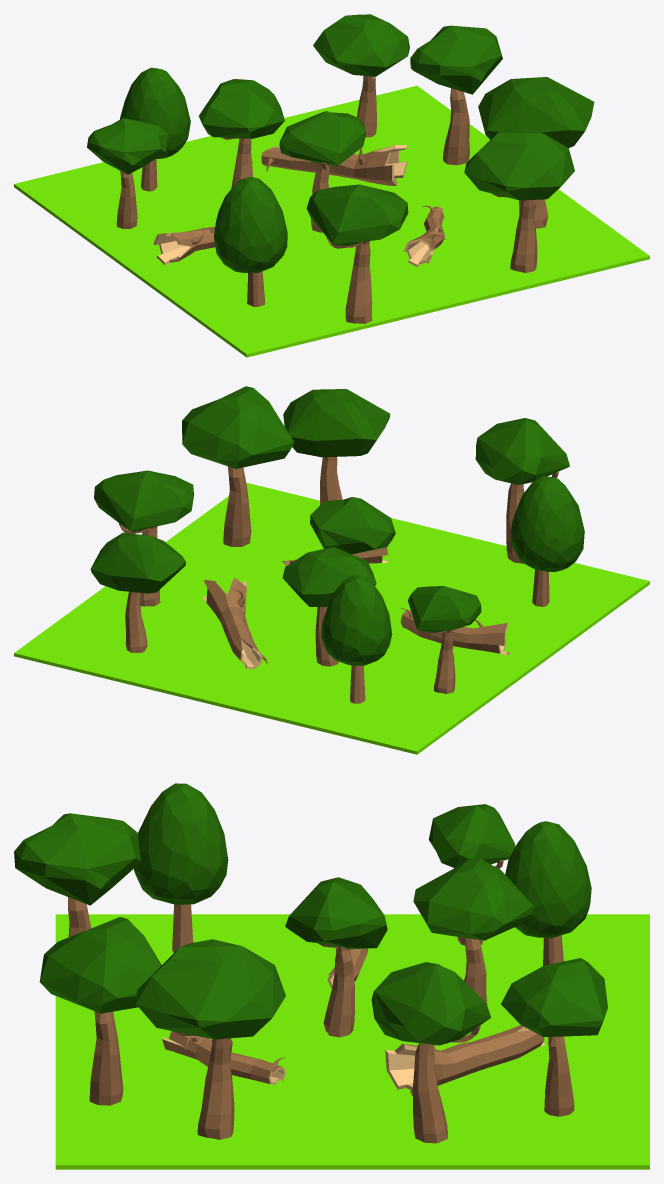
File: Forest_Tile_2.fbx
3 views of the same model, one above another, from view 1: azimuth 30°, elevation 25°; view 2: azimuth 150°, elevation 25°; view 3: azimuth 270°, elevation 25° (orthographic). The views are drawn at different scales.
Visible parts, largest first — view 1: Plane.001, Plane.004|Tronco 1|Dupli|4, Plane.004|Tronco 2|Dupli|8, Plane.004|Tronco 3|Dupli|9, Plane.004|Tronco 1|Dupli|5, Plane.004|Tronco 2|Dupli|7, Plane.004|Tronco 1|Dupli|6, Plane.004|Tronco 1|Dupli|2, Plane.004|Tronco 2|Dupli|3, Plane.004|Tronco 3|Dupli|1, Plane.004|Tronco 2|Dupli|, Circle.002 (+2 smaller); view 2: Plane.001, Plane.004|Tronco 1|Dupli|5, Plane.004|Tronco 1|Dupli|4, Plane.004|Tronco 3|Dupli|9, Plane.004|Tronco 3|Dupli|1, Plane.004|Tronco 2|Dupli|8, Plane.004|Tronco 1|Dupli|6, Plane.004|Tronco 2|Dupli|7, Plane.004|Tronco 1|Dupli|2, Plane.004|Tronco 2|Dupli|3, Plane.004|Tronco 2|Dupli|, Circle.002 (+1 smaller); view 3: Plane.001, Plane.004|Tronco 1|Dupli|5, Plane.004|Tronco 1|Dupli|4, Plane.004|Tronco 2|Dupli|7, Plane.004|Tronco 3|Dupli|9, Plane.004|Tronco 2|Dupli|8, Plane.004|Tronco 1|Dupli|6, Plane.004|Tronco 1|Dupli|2, Plane.004|Tronco 3|Dupli|1, Plane.004|Tronco 2|Dupli|, Circle.002, Plane.004|Tronco 2|Dupli|3 (+1 smaller).
Part boxes in pixels (<box>): Plane.001: <box>14,85,649,357</box>; Plane.004|Tronco 1|Dupli|4: <box>464,128,574,272</box>; Plane.004|Tronco 2|Dupli|8: <box>306,184,408,323</box>; Plane.004|Tronco 3|Dupli|9: <box>214,177,287,306</box>; Plane.004|Tronco 1|Dupli|5: <box>478,77,594,228</box>; Plane.004|Tronco 2|Dupli|7: <box>410,25,502,165</box>; Plane.004|Tronco 1|Dupli|6: <box>313,14,409,137</box>; Plane.004|Tronco 1|Dupli|2: <box>199,79,284,188</box>; Plane.004|Tronco 2|Dupli|3: <box>87,118,167,228</box>; Plane.004|Tronco 3|Dupli|1: <box>120,67,190,191</box>; Plane.004|Tronco 2|Dupli|: <box>279,111,365,232</box>; Circle.002: <box>261,145,407,185</box>; Plane.001: <box>14,483,649,754</box>; Plane.004|Tronco 1|Dupli|5: <box>182,386,293,546</box>; Plane.004|Tronco 1|Dupli|4: <box>283,389,390,504</box>; Plane.004|Tronco 3|Dupli|9: <box>511,476,584,606</box>; Plane.004|Tronco 3|Dupli|1: <box>321,575,392,703</box>; Plane.004|Tronco 2|Dupli|8: <box>475,418,569,563</box>; Plane.004|Tronco 1|Dupli|6: <box>90,532,185,652</box>; Plane.004|Tronco 2|Dupli|7: <box>94,470,193,606</box>; Plane.004|Tronco 1|Dupli|2: <box>282,547,376,666</box>; Plane.004|Tronco 2|Dupli|3: <box>408,586,481,693</box>; Plane.004|Tronco 2|Dupli|: <box>310,497,395,555</box>; Circle.002: <box>203,578,267,668</box>; Plane.001: <box>55,914,649,1169</box>; Plane.004|Tronco 1|Dupli|5: <box>136,939,285,1139</box>; Plane.004|Tronco 1|Dupli|4: <box>39,917,161,1105</box>; Plane.004|Tronco 2|Dupli|7: <box>371,962,491,1143</box>; Plane.004|Tronco 3|Dupli|9: <box>134,783,228,952</box>; Plane.004|Tronco 2|Dupli|8: <box>14,813,140,936</box>; Plane.004|Tronco 1|Dupli|6: <box>501,958,607,1116</box>; Plane.004|Tronco 1|Dupli|2: <box>413,858,533,1004</box>; Plane.004|Tronco 3|Dupli|1: <box>505,821,591,965</box>; Plane.004|Tronco 2|Dupli|: <box>285,877,387,1037</box>; Circle.002: <box>385,1025,544,1095</box>; Plane.004|Tronco 2|Dupli|3: <box>428,804,515,945</box>.
Bounding box in the file's own units: 650 × 696 × 229.
